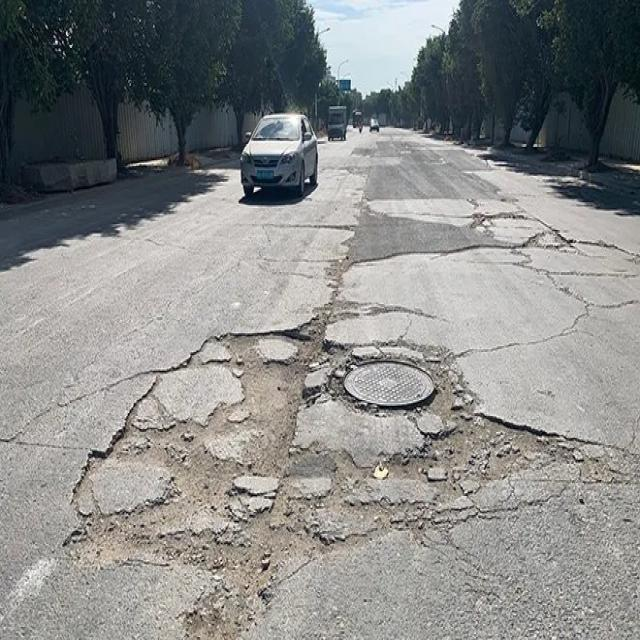Pothole: (58, 307, 589, 621), (468, 202, 587, 263)
